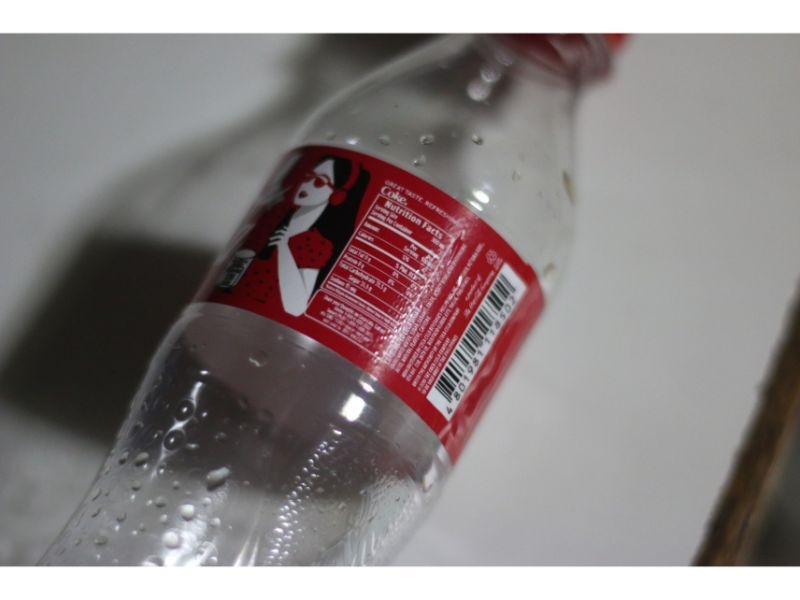PET #1: (24, 35, 631, 566)
